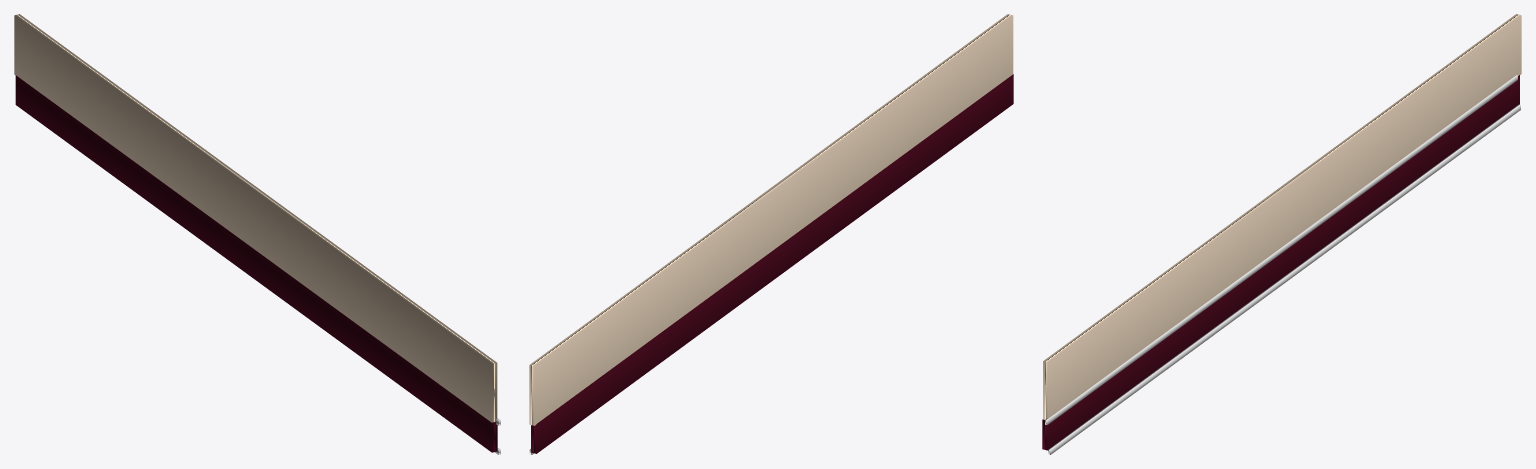
Rendered from Hallway.fbx.
The picture shows the model from 3 angles, left to right: view 1: azimuth 30°, elevation 25°; view 2: azimuth 150°, elevation 25°; view 3: azimuth 330°, elevation 25°; orthographic projection.
Parts seen in each view (by area): view 1: Wall.001, Cube.001; view 2: Wall.001, Cube.001; view 3: Wall.001, Cube.001, Rim.002, Rim.003.
Part boxes in pixels (box(x1,y1,x2,y2)): Wall.001: box(14, 14, 497, 422); Cube.001: box(15, 75, 497, 452); Wall.001: box(529, 14, 1013, 425); Cube.001: box(531, 74, 1013, 453); Wall.001: box(1043, 14, 1521, 419); Cube.001: box(1042, 75, 1519, 450); Rim.002: box(1048, 104, 1520, 454); Rim.003: box(1045, 75, 1517, 425).
Bounding box in the file's own units: 163 × 1528 × 14442.
